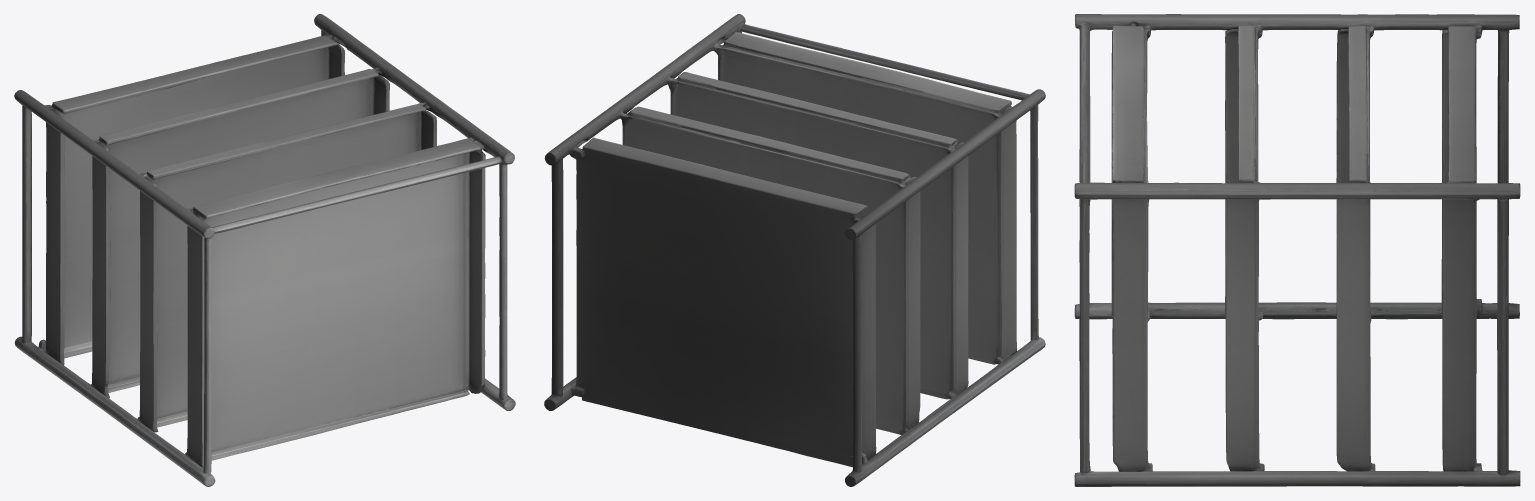
File: shelf_visual_0.obj
3 renders of one model, left to right at view 1: azimuth 30°, elevation 25°; view 2: azimuth 150°, elevation 25°; view 3: azimuth 270°, elevation 25°, orthographic. The views are drawn at different scales.
Size of the model in its own units: 0.9456 by 0.7567 by 0.9995.
1 material, 1 textured.
